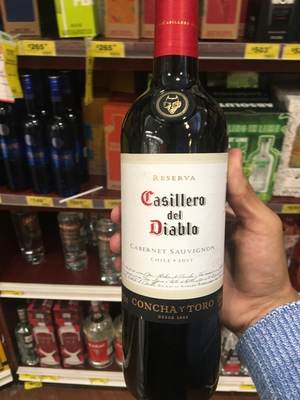casillero del diablo cabernet sauvignon: (114, 17, 230, 400)
